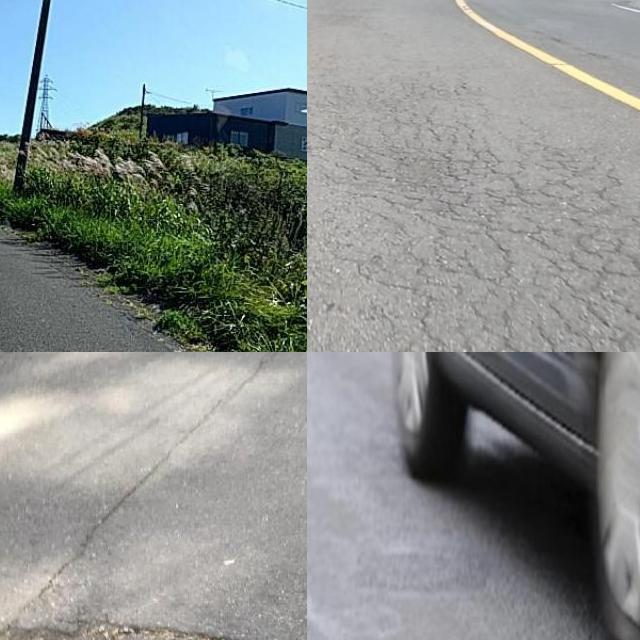Melintang: (0, 595, 298, 640)
Memanjang: (0, 352, 304, 640)
Retak Buaya: (317, 92, 640, 352)
